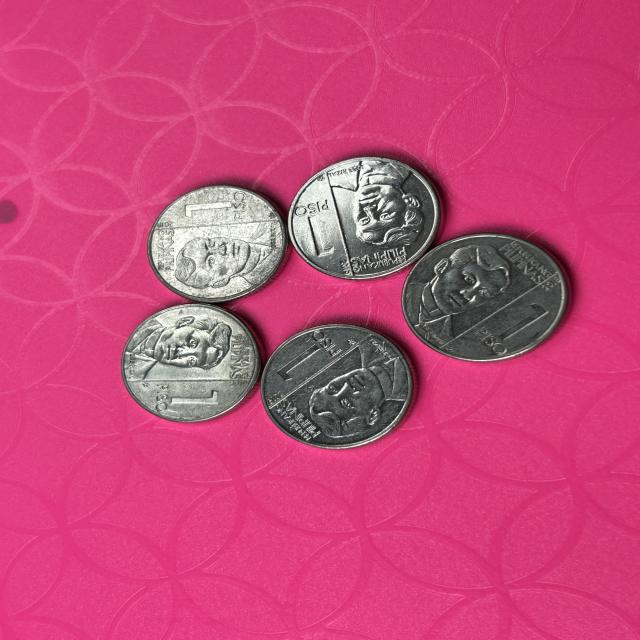1_New_Front: (476, 301, 553, 355), (284, 199, 344, 260), (274, 330, 343, 375), (152, 379, 226, 417), (174, 193, 256, 219)
